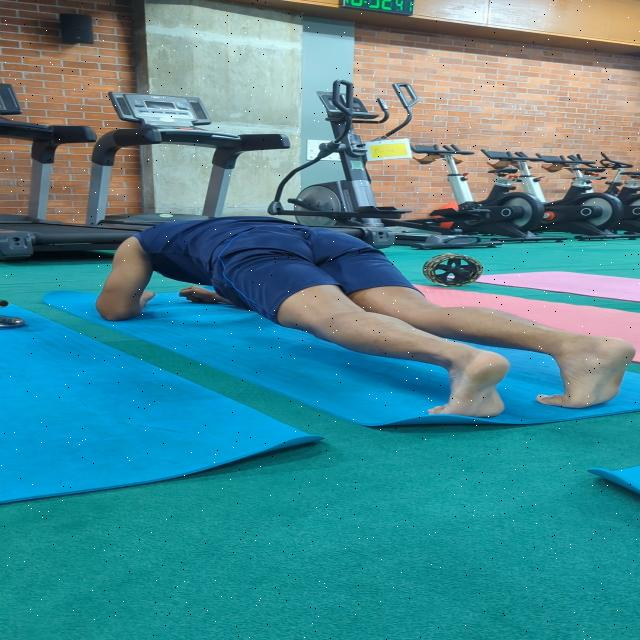Normal_Plunk: (89, 204, 640, 408)
